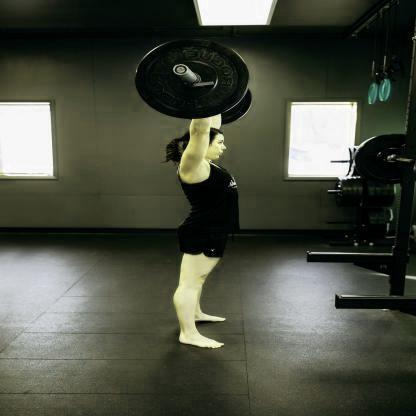Barbell: (169, 62, 190, 77)
